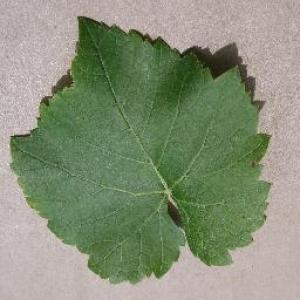Folha: (8, 14, 272, 285)
